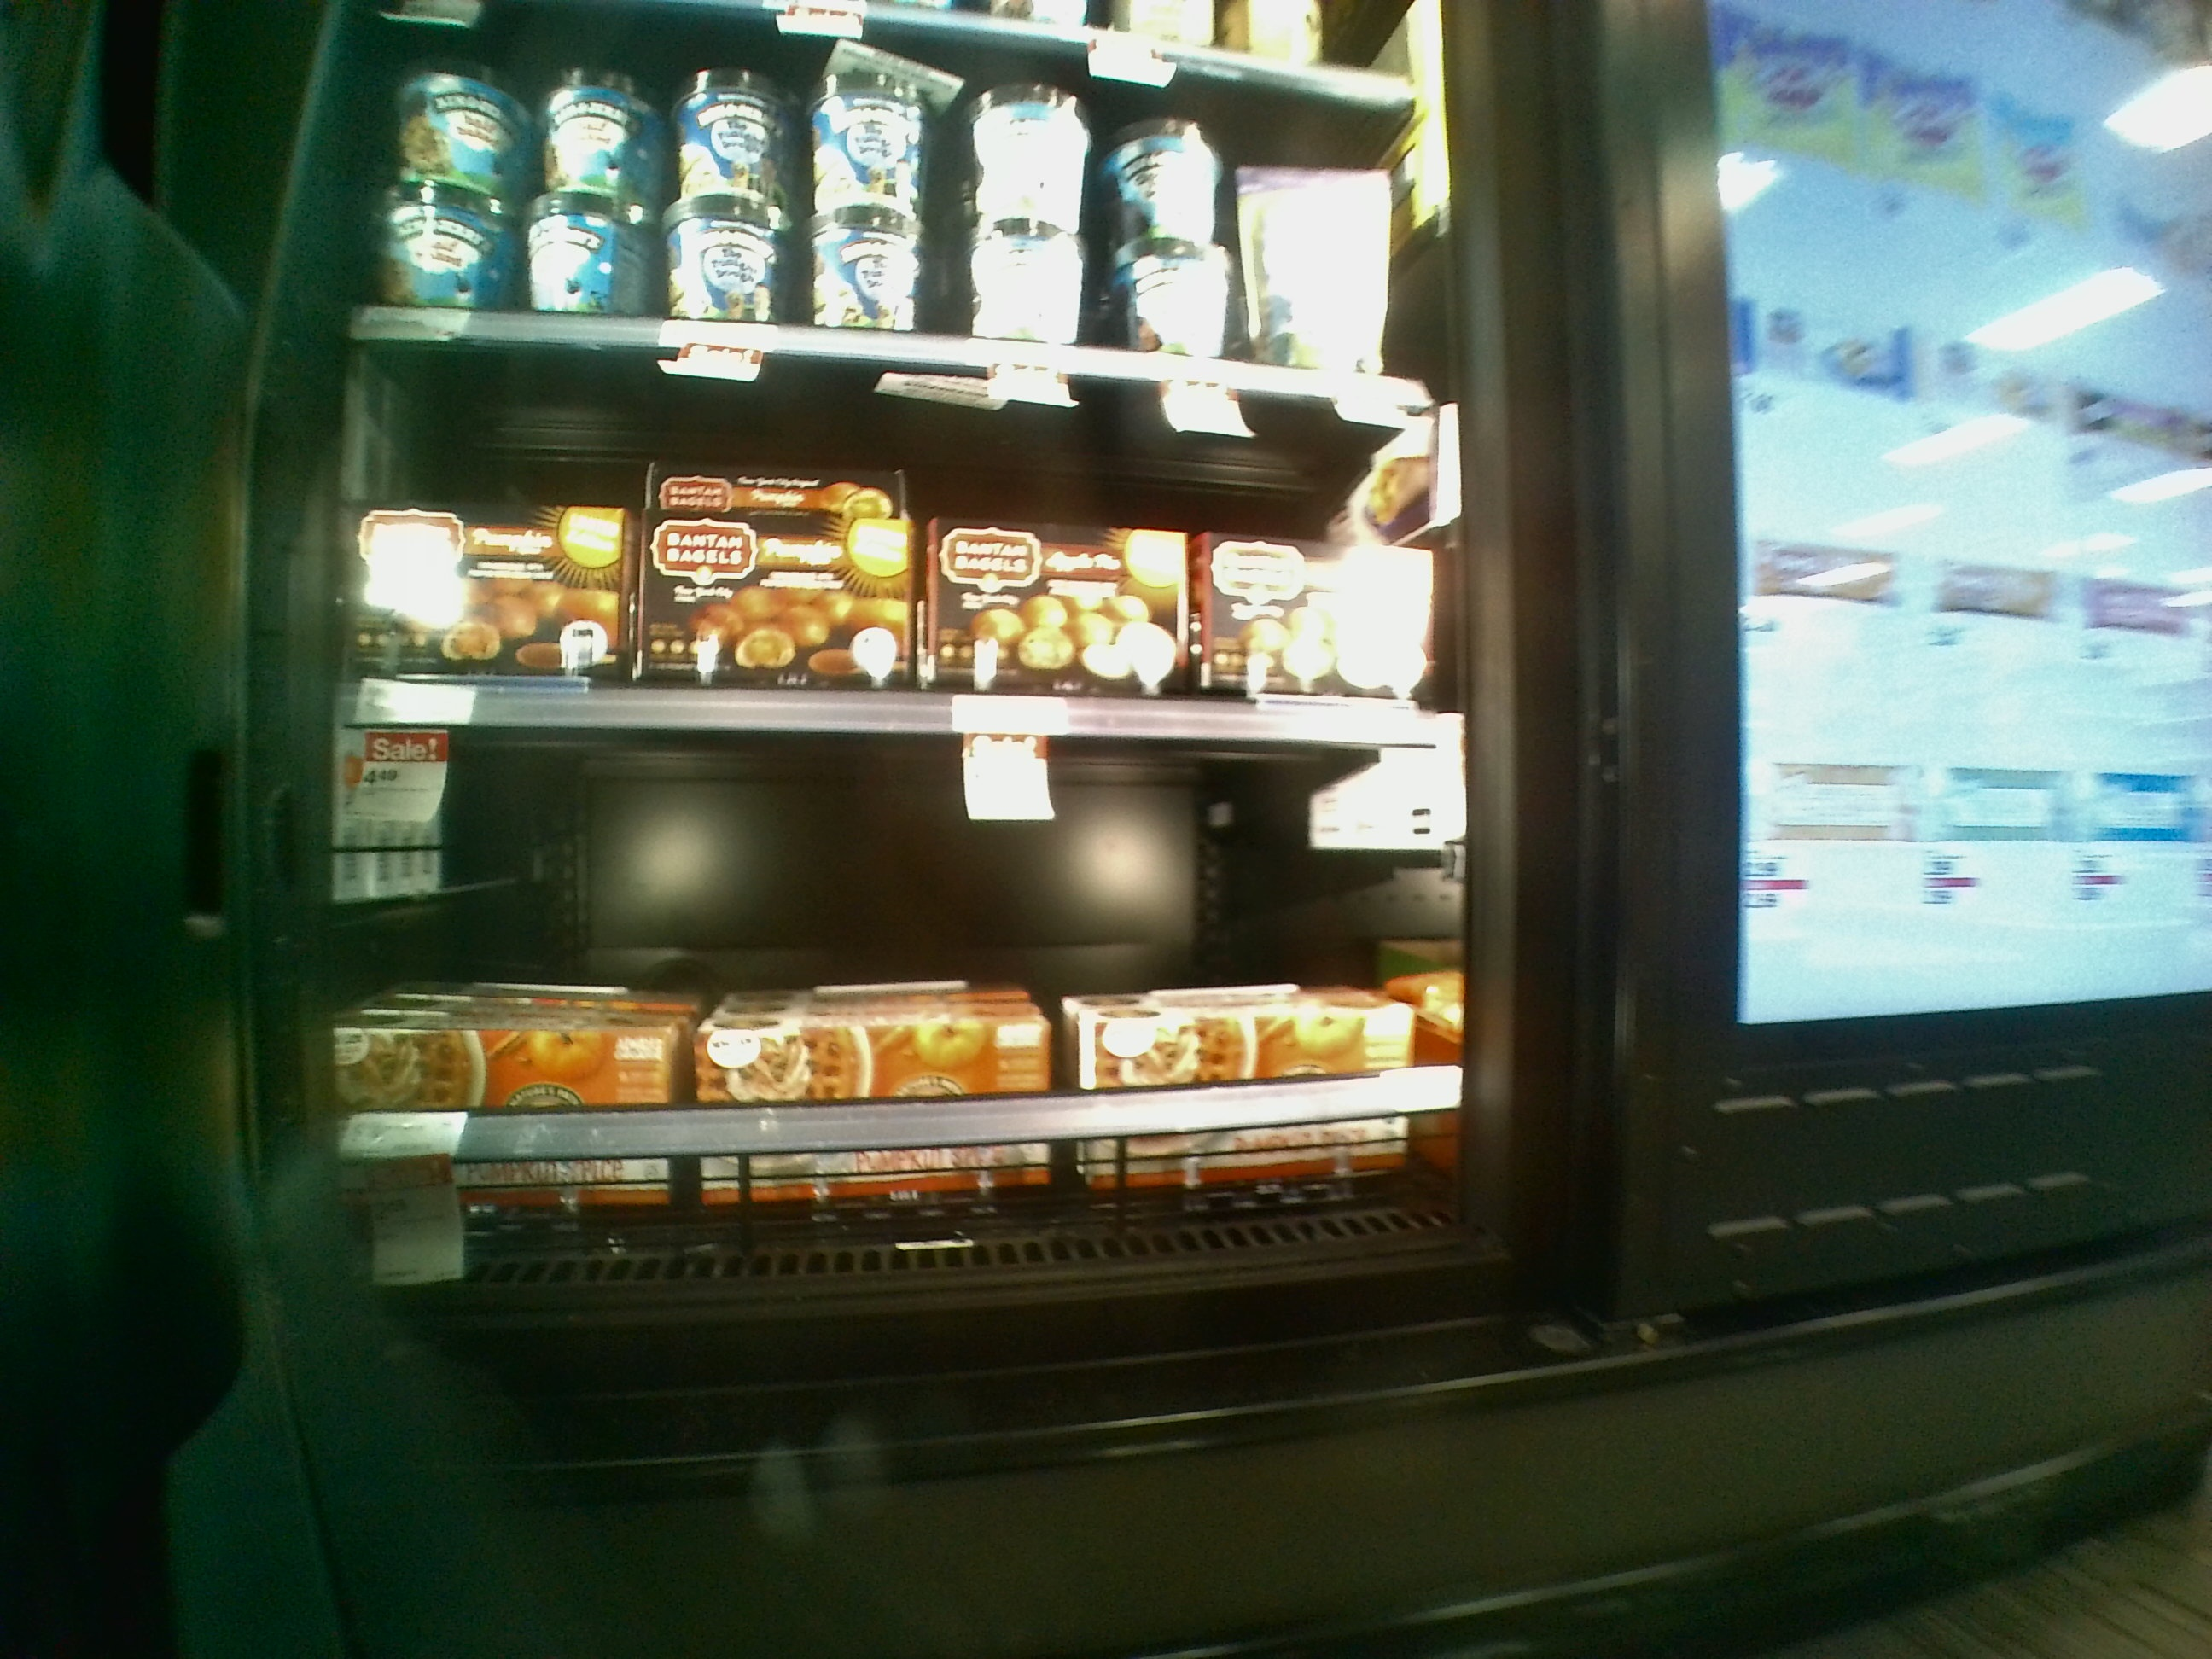shelf: (308, 683, 1496, 1267), (329, 305, 1474, 755)
